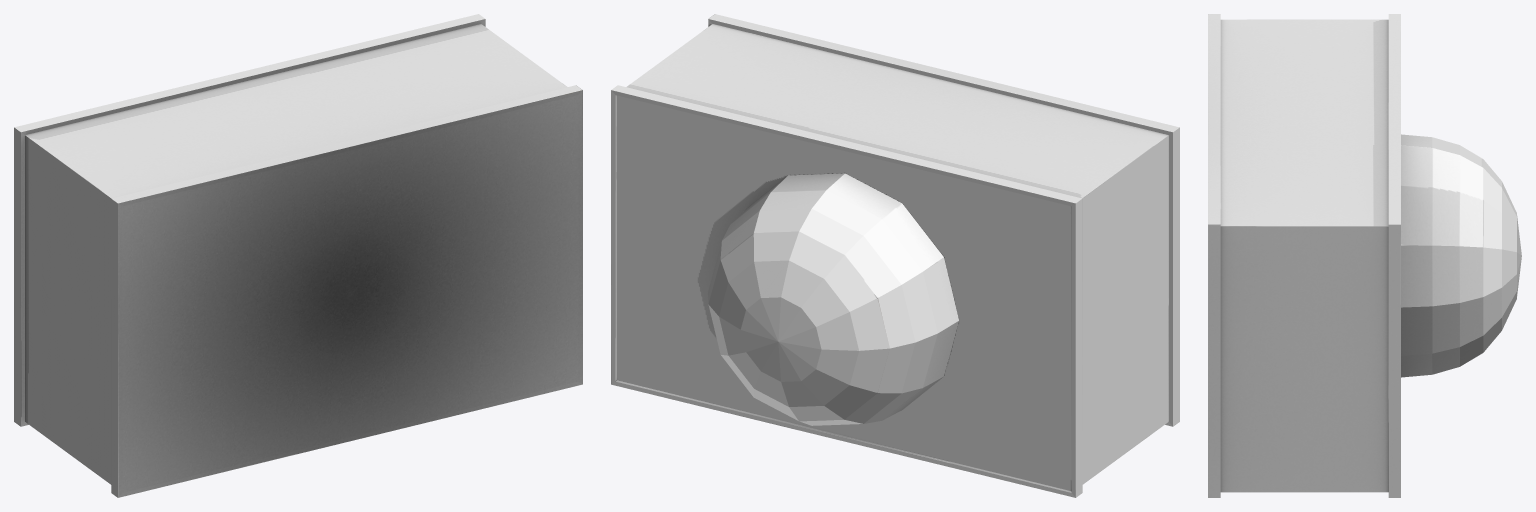
Rendered from white-house2.obj.
The picture shows the model from 3 angles, left to right: view 1: azimuth 30°, elevation 25°; view 2: azimuth 150°, elevation 25°; view 3: azimuth 270°, elevation 25°; orthographic projection. The views are drawn at different scales.
Parts seen in each view (by area): view 1: Plane.010; view 2: Plane.010; view 3: Plane.010.
Part boxes in pixels (bbox=[...]): Plane.010: bbox=[14, 14, 582, 497]; Plane.010: bbox=[611, 14, 1179, 497]; Plane.010: bbox=[1208, 14, 1521, 497].
Bounding box in the file's own units: 20.38 × 12.33 × 12.83.
